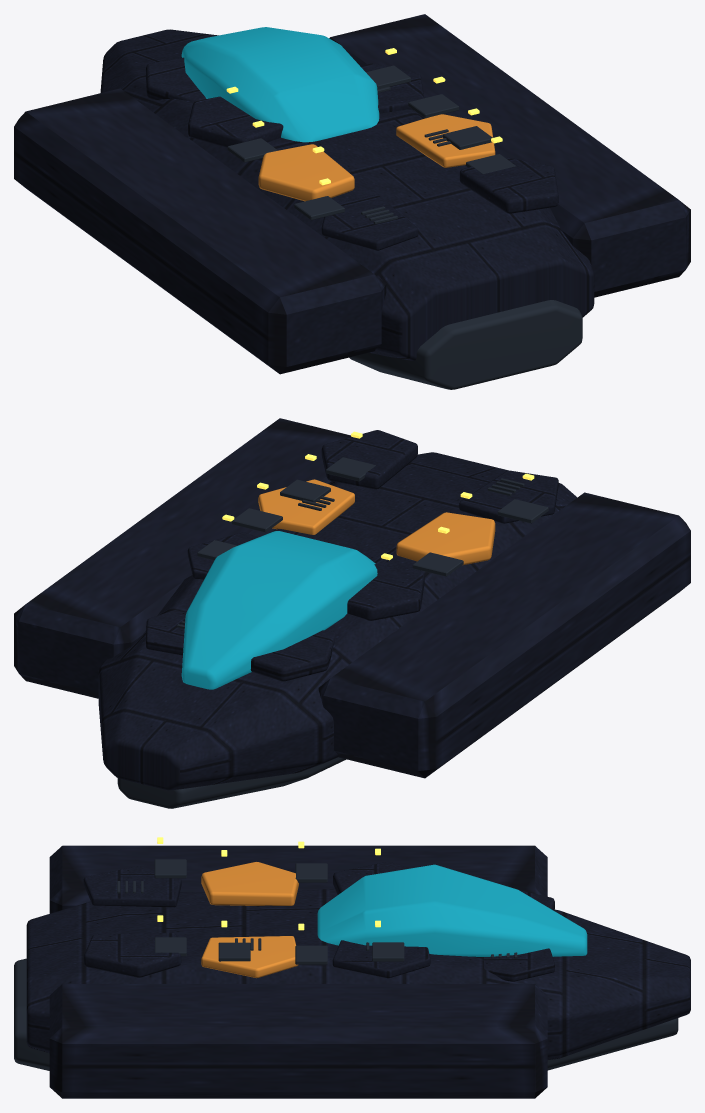
The model's file is bastion.glb.
3 views of the same model, one above another, from view 1: azimuth 30°, elevation 25°; view 2: azimuth 150°, elevation 25°; view 3: azimuth 270°, elevation 25° (orthographic). The views are drawn at different scales.
Parts seen in each view (by area): view 1: Gôndola do motor.005 · exportação, Bocal do motor.005 · exportação, Cabine panorâmica.002 · exportação, Colar da turbina.016 · exportação; view 2: Gôndola do motor.005 · exportação, Cabine panorâmica.002 · exportação, Bocal do motor.005 · exportação, Colar da turbina.016 · exportação; view 3: Gôndola do motor.005 · exportação, Cabine panorâmica.002 · exportação, Bocal do motor.005 · exportação, Colar da turbina.016 · exportação.
Boxes of the visible parts, x1,y1,x2,y2 form: Gôndola do motor.005 · exportação: (14, 14, 690, 374); Bocal do motor.005 · exportação: (227, 65, 582, 389); Cabine panorâmica.002 · exportação: (181, 27, 379, 142); Colar da turbina.016 · exportação: (258, 114, 495, 201); Gôndola do motor.005 · exportação: (14, 418, 690, 790); Cabine panorâmica.002 · exportação: (181, 531, 377, 689); Bocal do motor.005 · exportação: (117, 457, 548, 808); Colar da turbina.016 · exportação: (258, 479, 495, 565); Gôndola do motor.005 · exportação: (26, 845, 690, 1098); Cabine panorâmica.002 · exportação: (317, 864, 587, 956); Bocal do motor.005 · exportação: (14, 859, 678, 1070); Colar da turbina.016 · exportação: (201, 862, 298, 977).
Size of the model in its own units: 35.45 by 15.26 by 52.84.
Materials: 7 (1 with a texture image).
